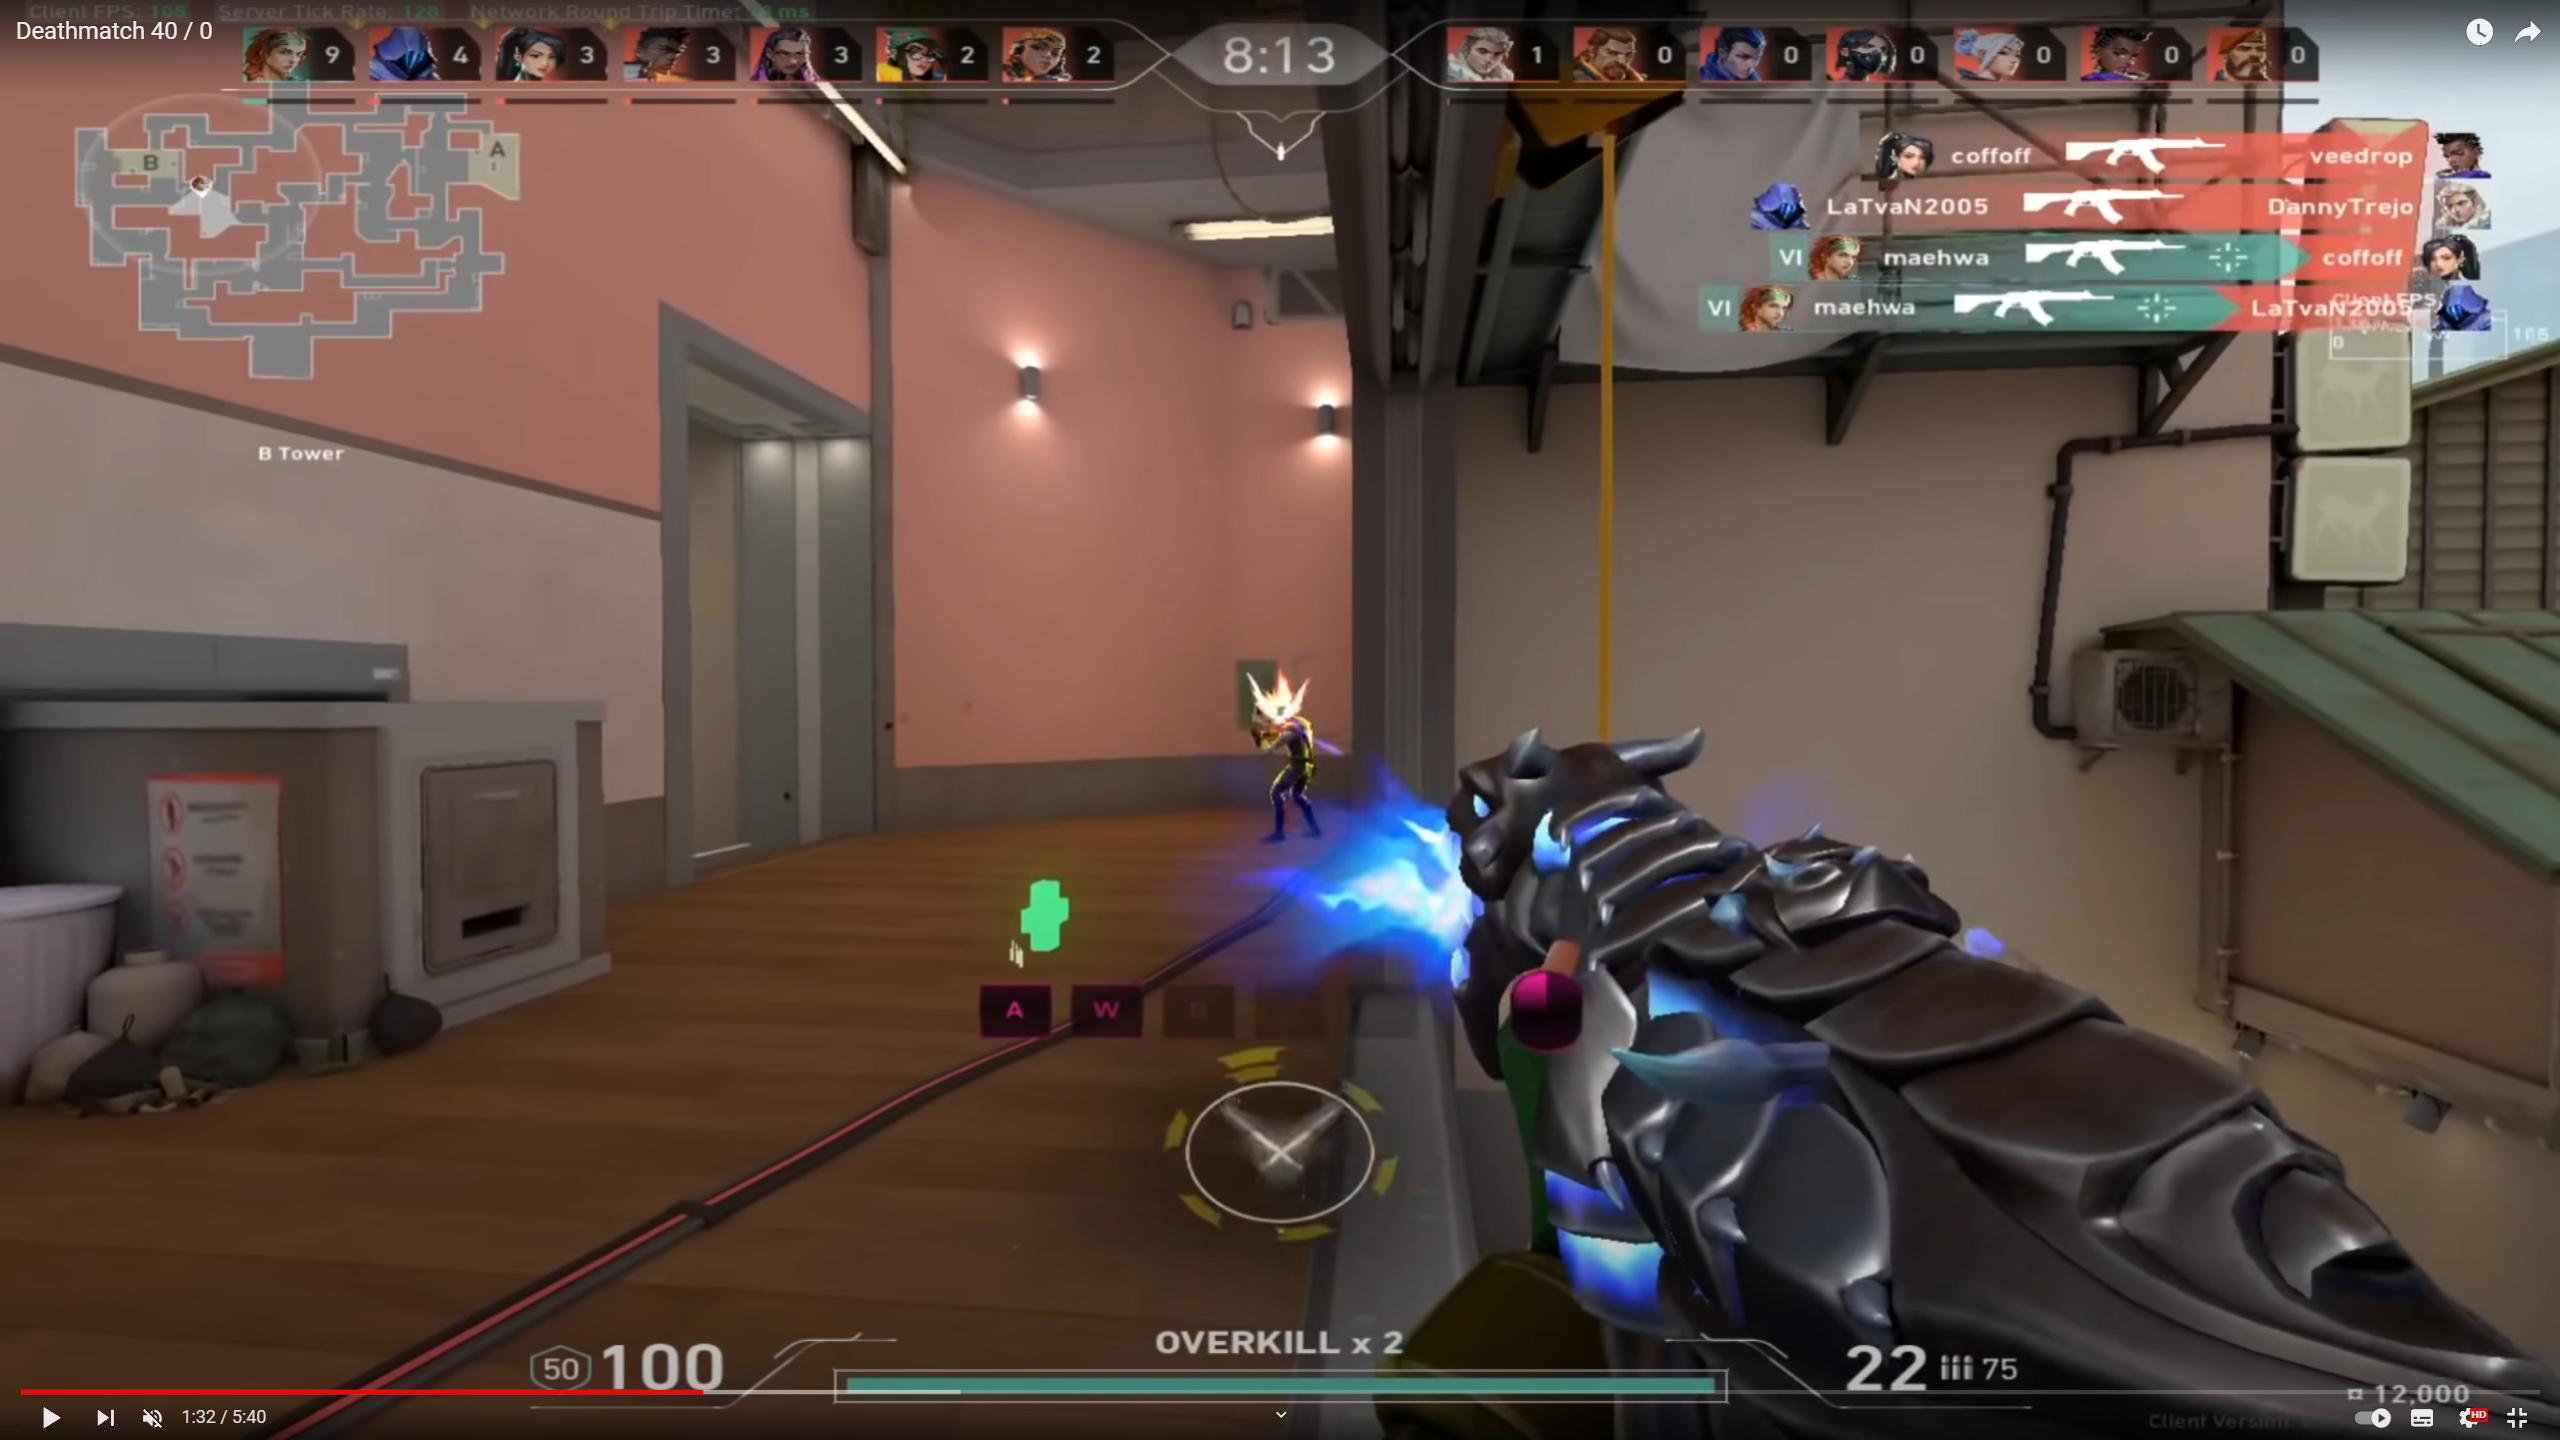enemyHead: (1264, 689, 1303, 733)
